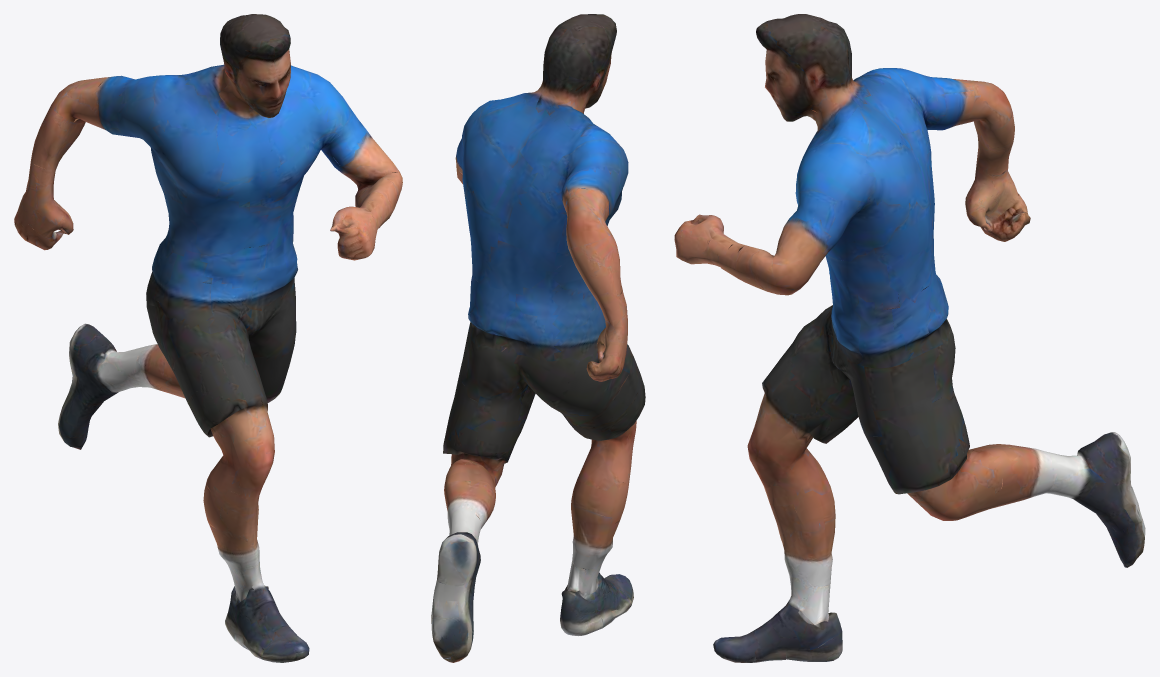
The model's file is runner.glb.
3 views of the same model, side by side, from view 1: azimuth 30°, elevation 25°; view 2: azimuth 150°, elevation 25°; view 3: azimuth 270°, elevation 25° (orthographic). The views are drawn at different scales.
Parts seen in each view (by area): view 1: Runner; view 2: Runner; view 3: Runner.
Part boxes in pixels (left/top/right/bottom): Runner: left=14, top=14, right=402, bottom=662; Runner: left=431, top=14, right=645, bottom=662; Runner: left=674, top=14, right=1145, bottom=662.
Bounding box in the file's own units: 0.9209 × 1.99 × 1.33.
1 material, 1 textured.
